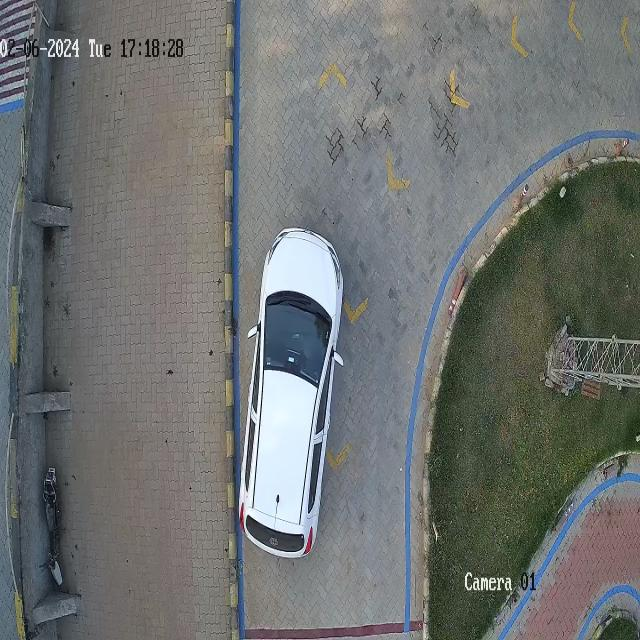car: (239, 229, 344, 557)
